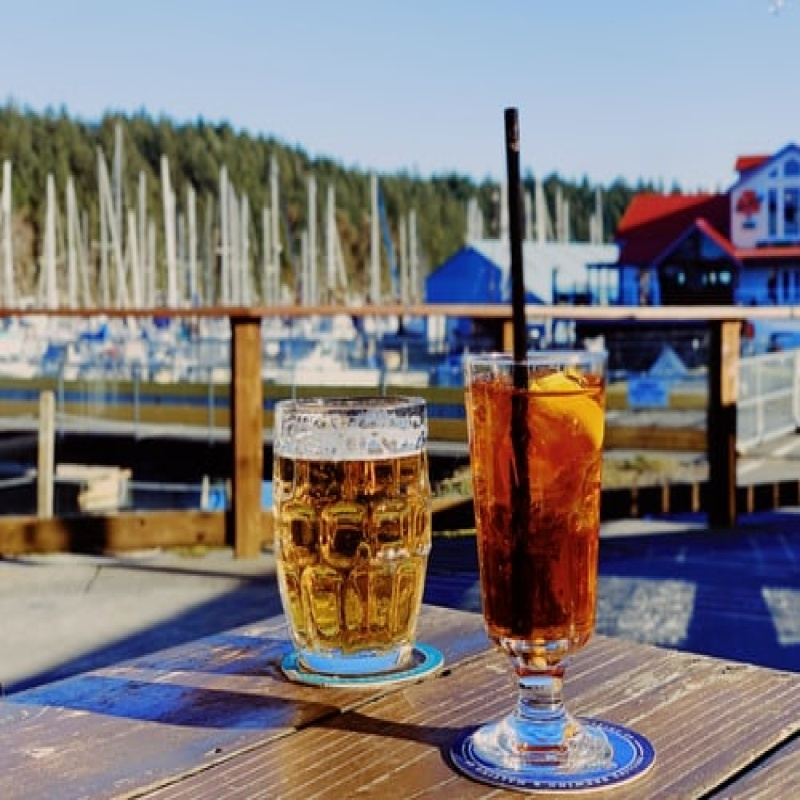whiskey: (464, 352, 610, 658), (269, 396, 441, 655)
